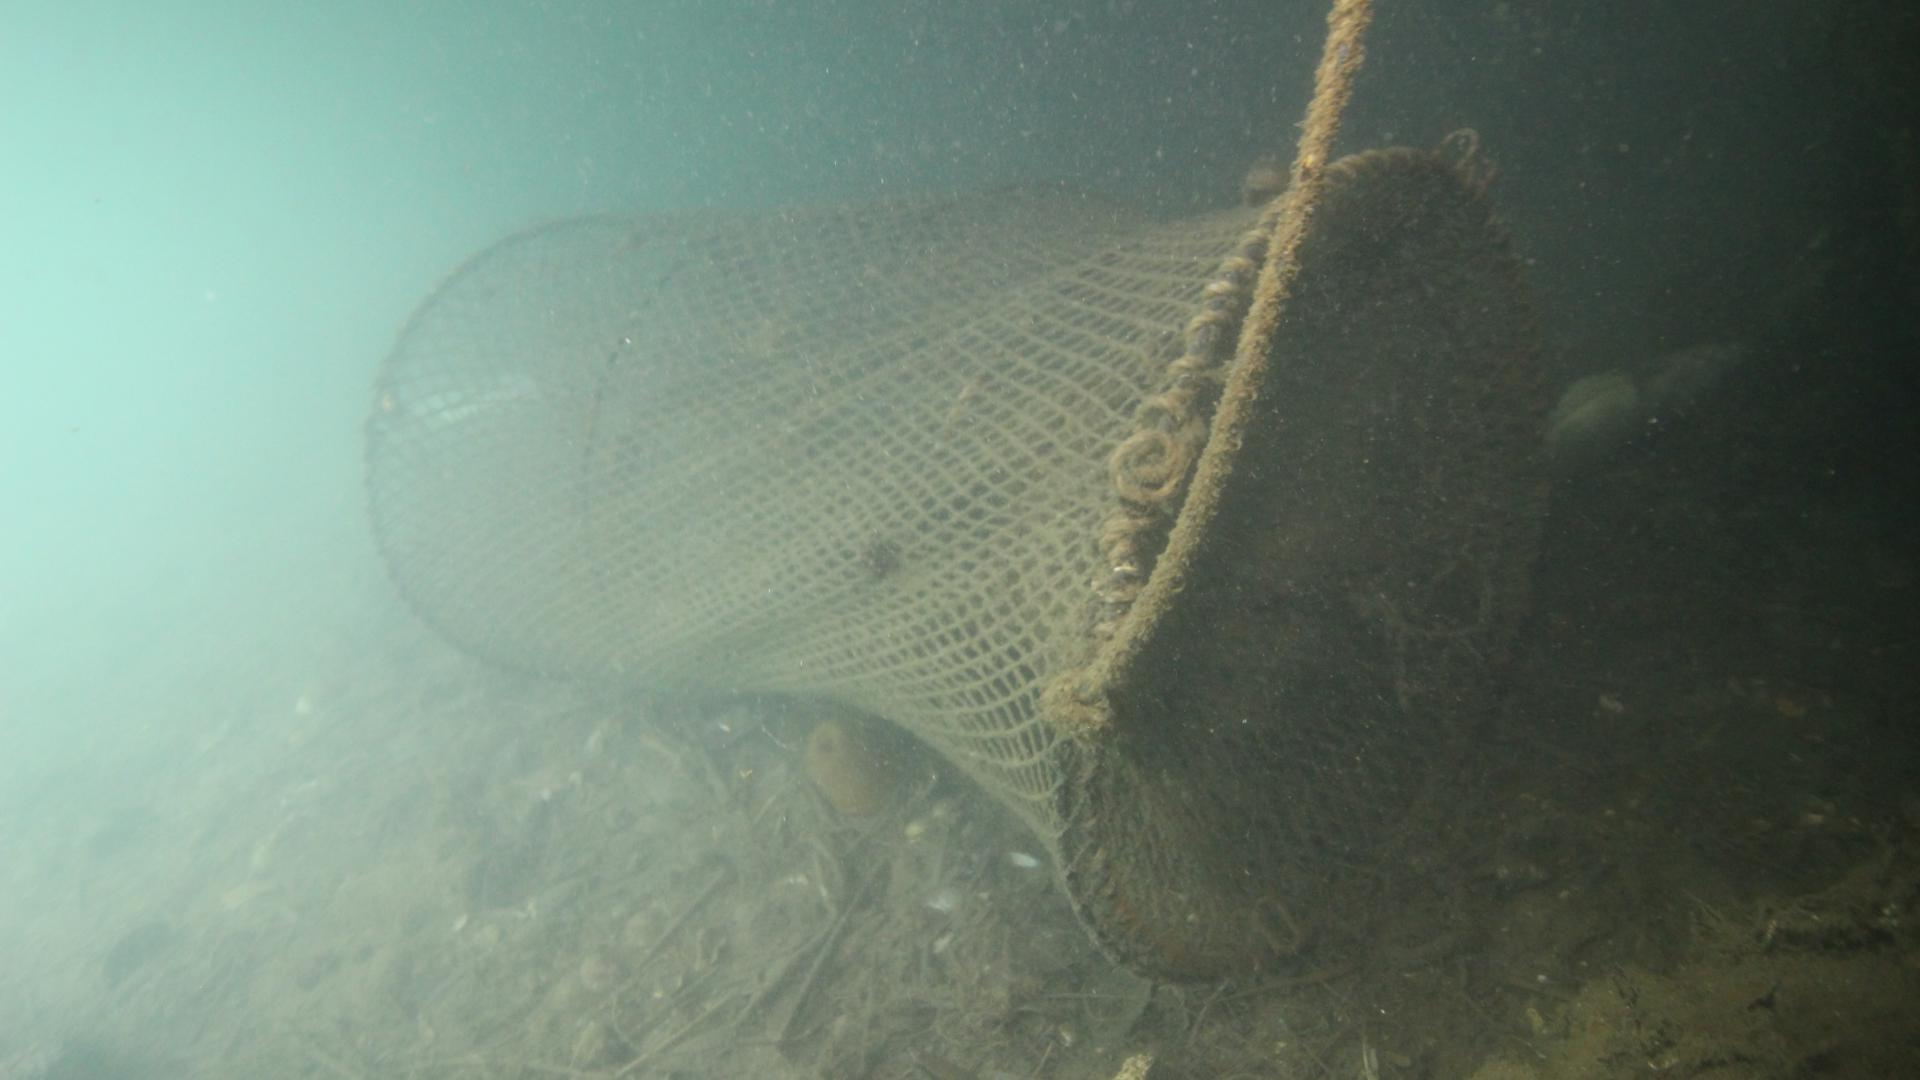rope: (1233, 0, 1375, 183)
spring fish trap: (360, 145, 1532, 989)
